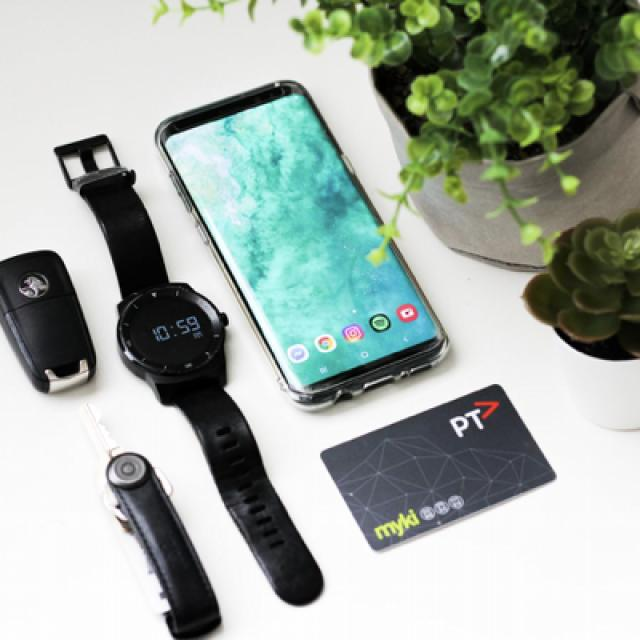cellphone: (152, 79, 450, 412)
